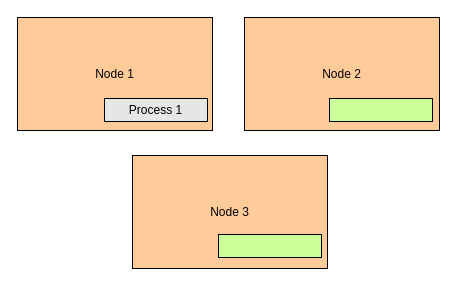
Image size: 457x286. Some labels were removed from this diagram. The shapes that lost their labels are listed below. From the top down, each one's centre as x and y in pixels, then its label:
At [380,110]: "Process 2".
At [270,246]: "Process 3".
